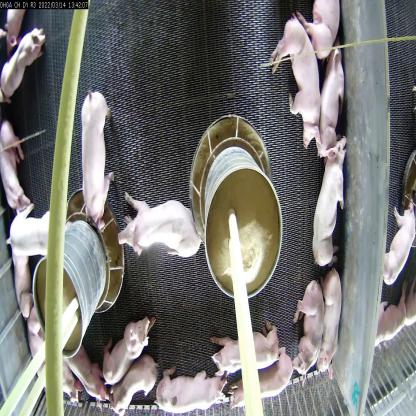Pig: (264, 14, 320, 163), (118, 187, 202, 263), (26, 309, 83, 408), (78, 88, 116, 234), (314, 138, 355, 268), (150, 360, 235, 414), (315, 42, 352, 160), (227, 345, 292, 407), (103, 304, 153, 384), (292, 278, 326, 386), (209, 322, 282, 372), (380, 193, 416, 287), (0, 27, 45, 102), (67, 340, 112, 415), (6, 196, 56, 262), (0, 116, 34, 211), (320, 268, 347, 381), (108, 353, 156, 415), (297, 0, 342, 61), (368, 282, 410, 346), (10, 243, 34, 325)
